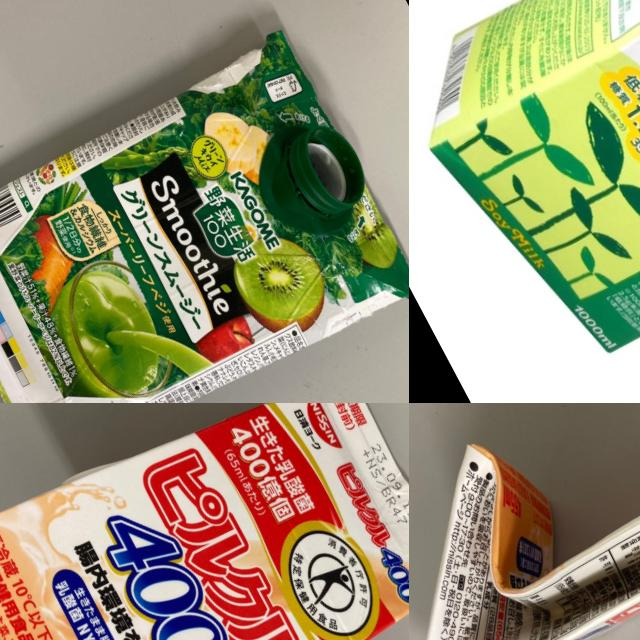Aluminium Foil: (0, 5, 409, 403), (0, 403, 409, 640), (409, 0, 640, 380), (409, 403, 640, 640)
